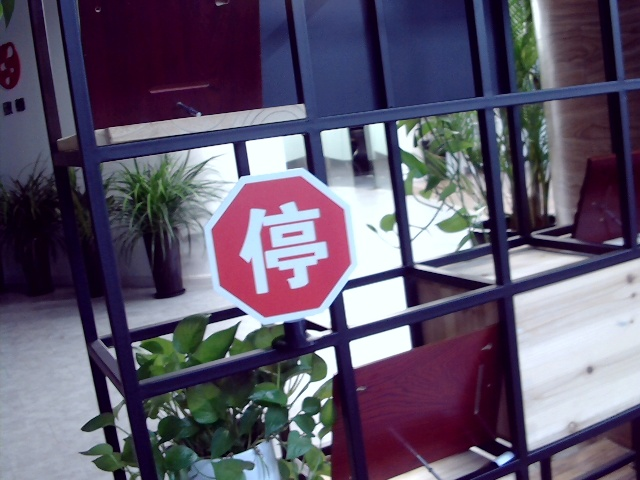stop: (239, 198, 328, 290)
